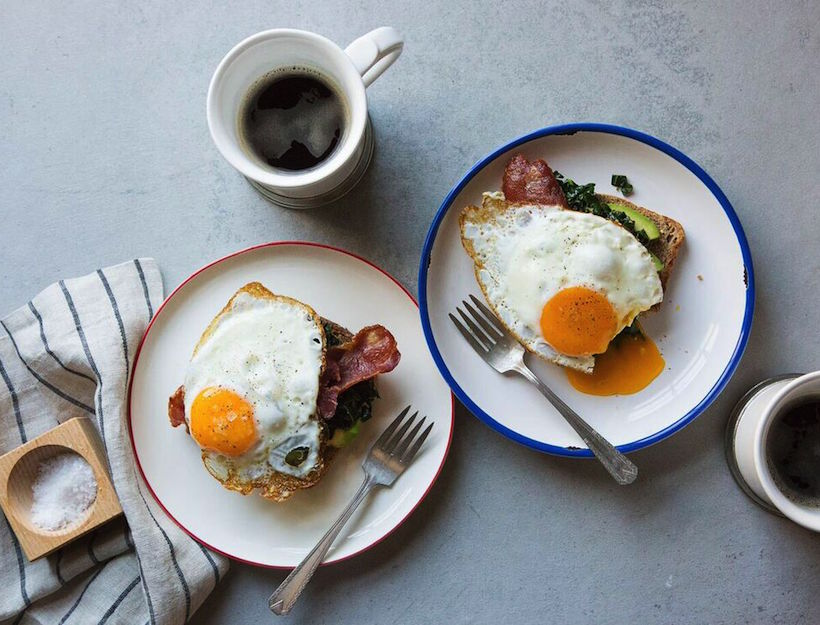fried egg: (491, 218, 630, 353), (189, 313, 311, 464)
slice of bread: (609, 185, 687, 264)
